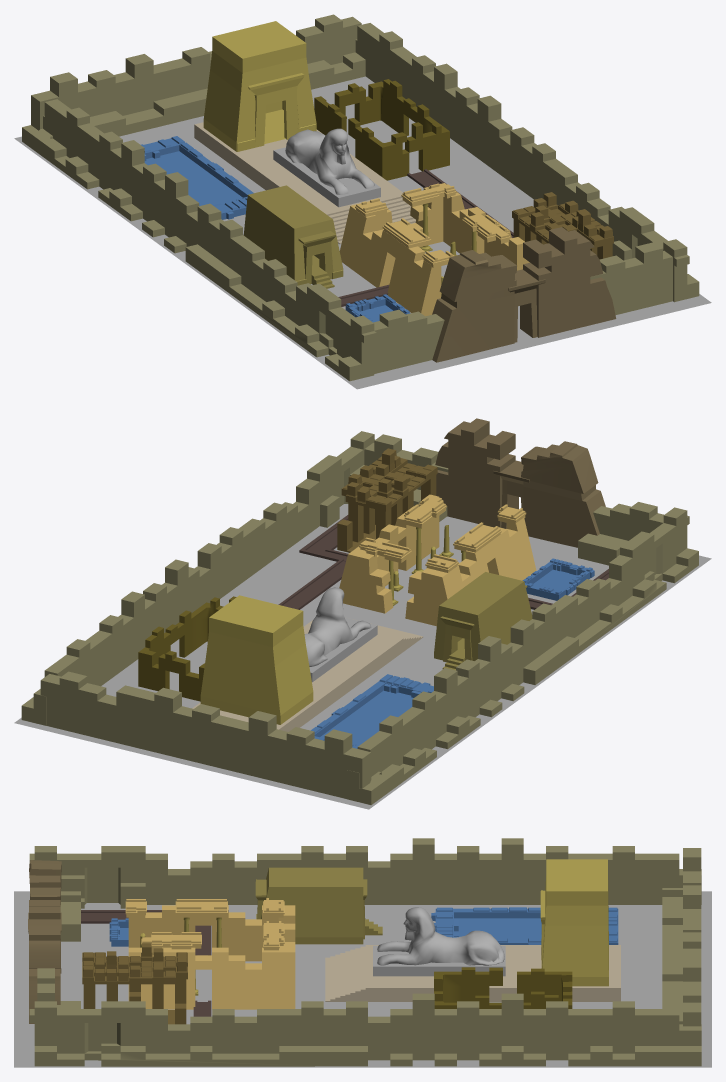
Rendered from Oasis_2.fbx.
3 renders of one model, top to bottom at view 1: azimuth 30°, elevation 25°; view 2: azimuth 150°, elevation 25°; view 3: azimuth 270°, elevation 25°, orthographic.
Visible parts, largest first — view 1: Wall_Low, Floo_Oasis, interior_walls_Low, Temple_Centr_Low, The_Distant_Temple_Low, Gates_Left_Low, Gates_Right_Low, Tample_Small_2_Low, Stairs_Centr_Low, Sphinx_Low, Pool_Big_Low, Temple_with_columns_Low (+2 smaller); view 2: Wall_Low, Floo_Oasis, interior_walls_Low, Temple_Centr_Low, Gates_Left_Low, Gates_Right_Low, Temple_with_columns_Low, Tample_Small_2_Low, The_Distant_Temple_Low, Stairs_Centr_Low, Pool_Big_Low, Sphinx_Low (+4 smaller); view 3: Wall_Low, Floo_Oasis, interior_walls_Low, Temple_Centr_Low, Tample_Small_2_Low, Stairs_Centr_Low, Sphinx_Low, Temple_with_columns_Low, The_Distant_Temple_Low, Pool_Big_Low, Gates_Right_Low, Paths_Left_and_Right_Low (+2 smaller).
Boxes of the visible parts, box(x1,y1,x2,y2) form: Wall_Low: box(22, 14, 699, 381); Floo_Oasis: box(14, 76, 711, 389); interior_walls_Low: box(339, 183, 529, 316); Temple_Centr_Low: box(203, 21, 316, 151); The_Distant_Temple_Low: box(314, 79, 449, 180); Gates_Left_Low: box(432, 250, 516, 362); Gates_Right_Low: box(523, 227, 616, 337); Tample_Small_2_Low: box(243, 185, 343, 285); Stairs_Centr_Low: box(194, 122, 415, 244); Sphinx_Low: box(273, 128, 380, 207); Pool_Big_Low: box(140, 136, 253, 219); Temple_with_columns_Low: box(512, 192, 613, 259); Wall_Low: box(21, 431, 698, 804); Floo_Oasis: box(14, 504, 711, 809); interior_walls_Low: box(339, 494, 536, 626); Temple_Centr_Low: box(200, 595, 313, 724); Gates_Left_Low: box(521, 441, 605, 547); Gates_Right_Low: box(435, 418, 515, 527); Temple_with_columns_Low: box(337, 448, 437, 552); Tample_Small_2_Low: box(434, 572, 532, 662); The_Distant_Temple_Low: box(138, 596, 236, 701); Stairs_Centr_Low: box(192, 619, 423, 731); Pool_Big_Low: box(311, 674, 433, 748); Sphinx_Low: box(304, 587, 377, 682); Wall_Low: box(29, 838, 701, 1066); Floo_Oasis: box(14, 891, 711, 1067); interior_walls_Low: box(125, 898, 295, 1009); Temple_Centr_Low: box(540, 859, 608, 986); Tample_Small_2_Low: box(255, 867, 367, 944); Stairs_Centr_Low: box(325, 945, 620, 1001); Sphinx_Low: box(373, 907, 505, 976); Temple_with_columns_Low: box(82, 943, 187, 1024); The_Distant_Temple_Low: box(434, 967, 572, 1008); Pool_Big_Low: box(431, 907, 618, 944); Gates_Right_Low: box(29, 900, 60, 1023); Paths_Left_and_Right_Low: box(81, 910, 211, 1016).
Bounding box in the file's own units: 8446 × 2416 × 14137.
